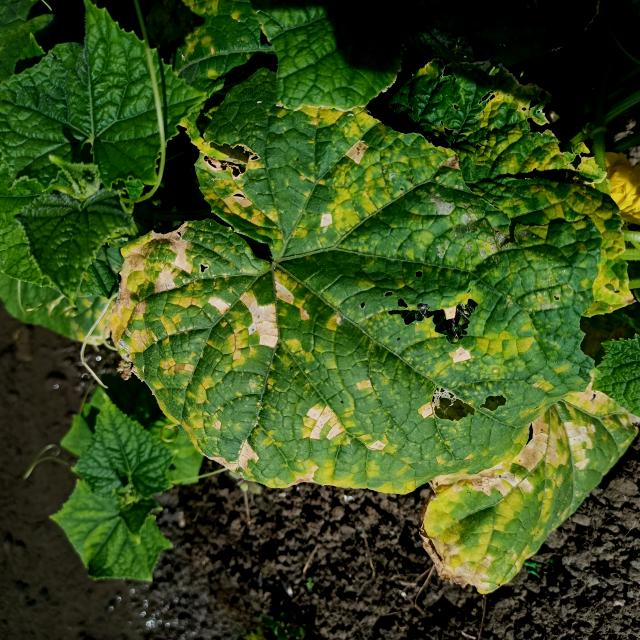disease_cucumber: (116, 99, 583, 490), (436, 398, 640, 576)
